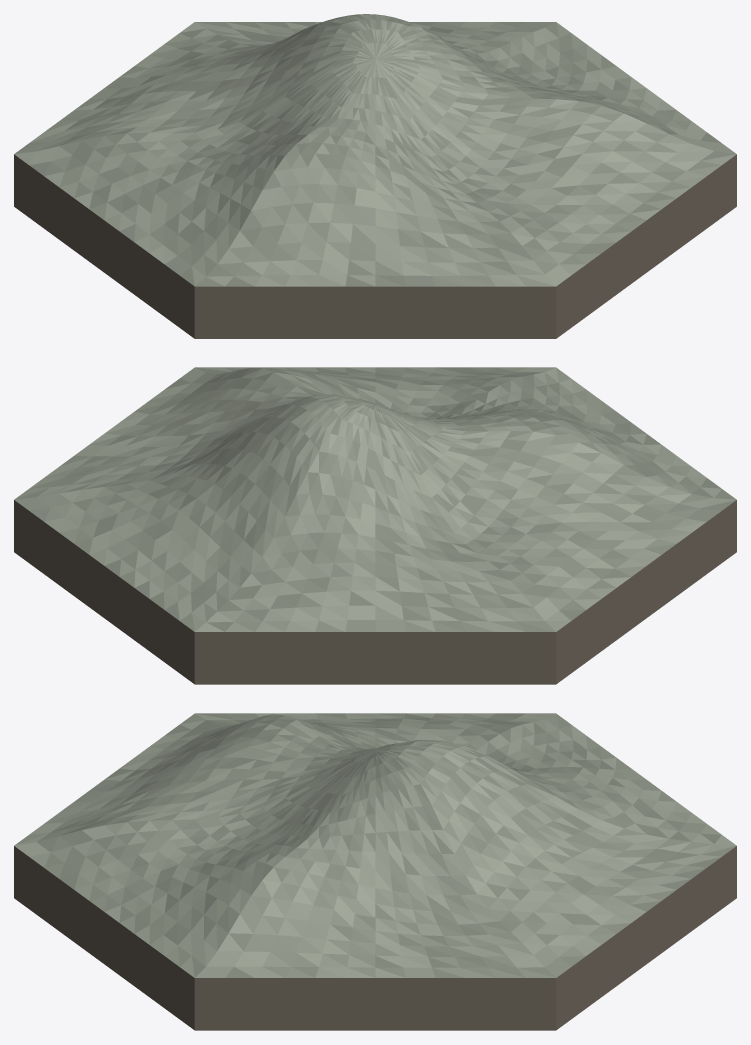
The model's file is TERRAIN_TUNDRA_HILLS_v01.fbx.
3 renders of one model, top to bottom at view 1: azimuth 30°, elevation 25°; view 2: azimuth 150°, elevation 25°; view 3: azimuth 270°, elevation 25°, orthographic.
Parts seen in each view (by area): view 1: TERRAIN_TUNDRA_HILLS_v01; view 2: TERRAIN_TUNDRA_HILLS_v01; view 3: TERRAIN_TUNDRA_HILLS_v01.
Boxes of the visible parts, x1,y1,x2,y2 form: TERRAIN_TUNDRA_HILLS_v01: (14,14,736,338); TERRAIN_TUNDRA_HILLS_v01: (14,367,736,684); TERRAIN_TUNDRA_HILLS_v01: (14,713,736,1030).
Bounding box in the file's own units: 173 × 49.43 × 200.
